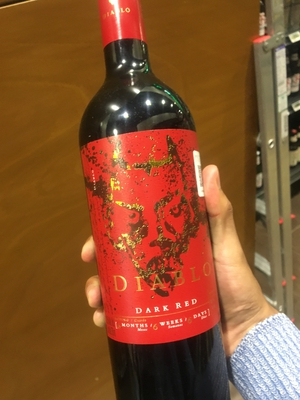diablo dark red: (62, 7, 251, 398)
